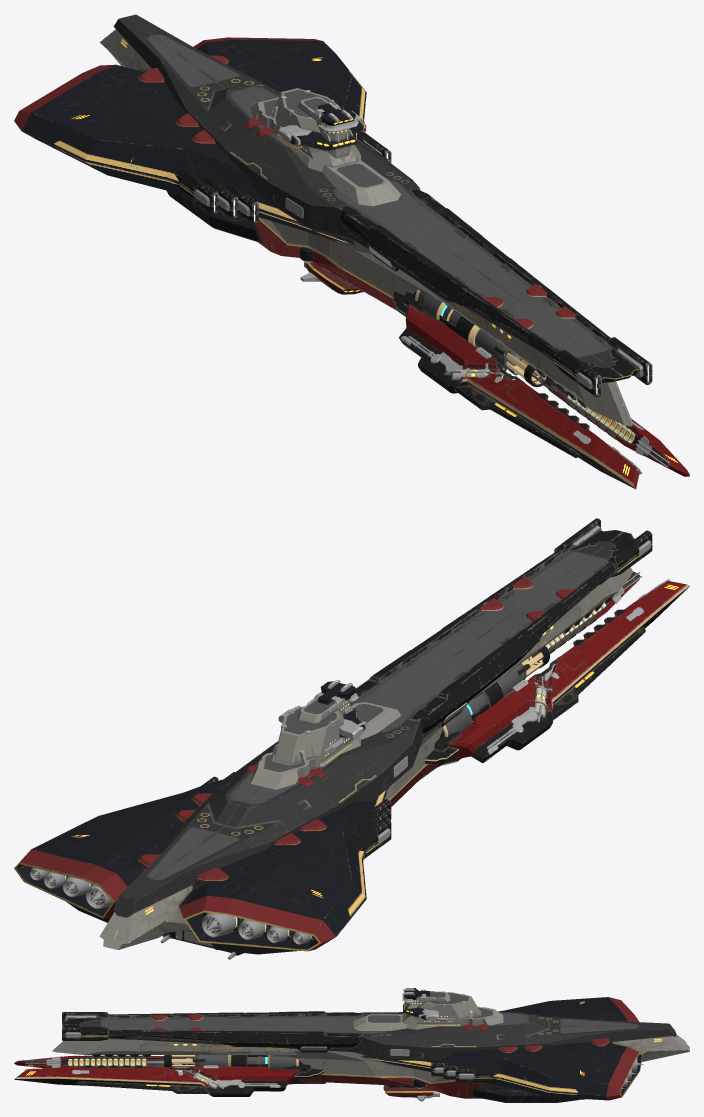
Rendered from space battle ship aquamarrine.fbx.
The picture shows the model from 3 angles, top to bottom: view 1: azimuth 30°, elevation 25°; view 2: azimuth 150°, elevation 25°; view 3: azimuth 270°, elevation 25°; orthographic projection. The views are drawn at different scales.
Visible parts, largest first — view 1: HSMS_Aquamarine; view 2: HSMS_Aquamarine; view 3: HSMS_Aquamarine.
Part boxes in pixels (left/top/right/bottom): HSMS_Aquamarine: left=14, top=14, right=689, bottom=489; HSMS_Aquamarine: left=14, top=518, right=689, bottom=959; HSMS_Aquamarine: left=14, top=988, right=689, bottom=1102.
Size of the model in its own units: 5657 by 2939 by 17191.
